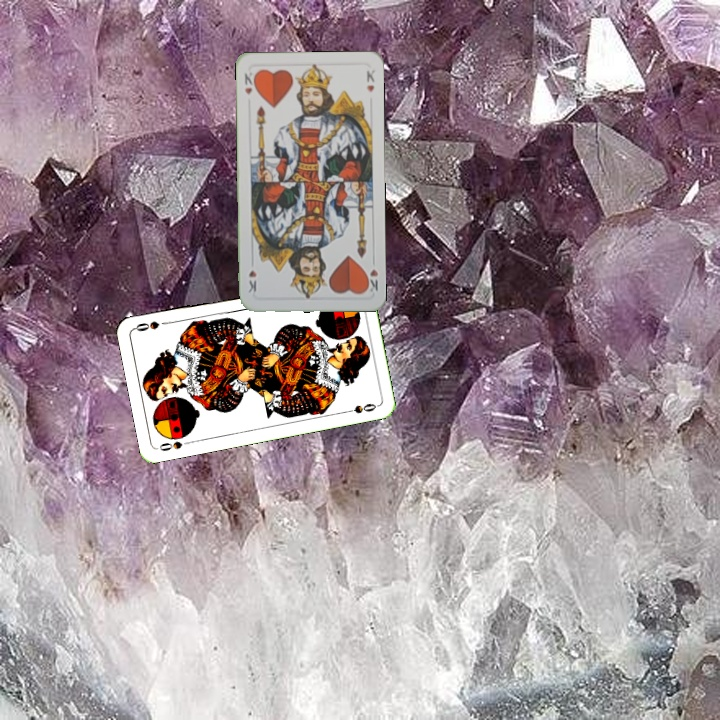HK: (362, 254, 381, 294), (240, 68, 258, 97)
SO: (154, 437, 194, 454)
